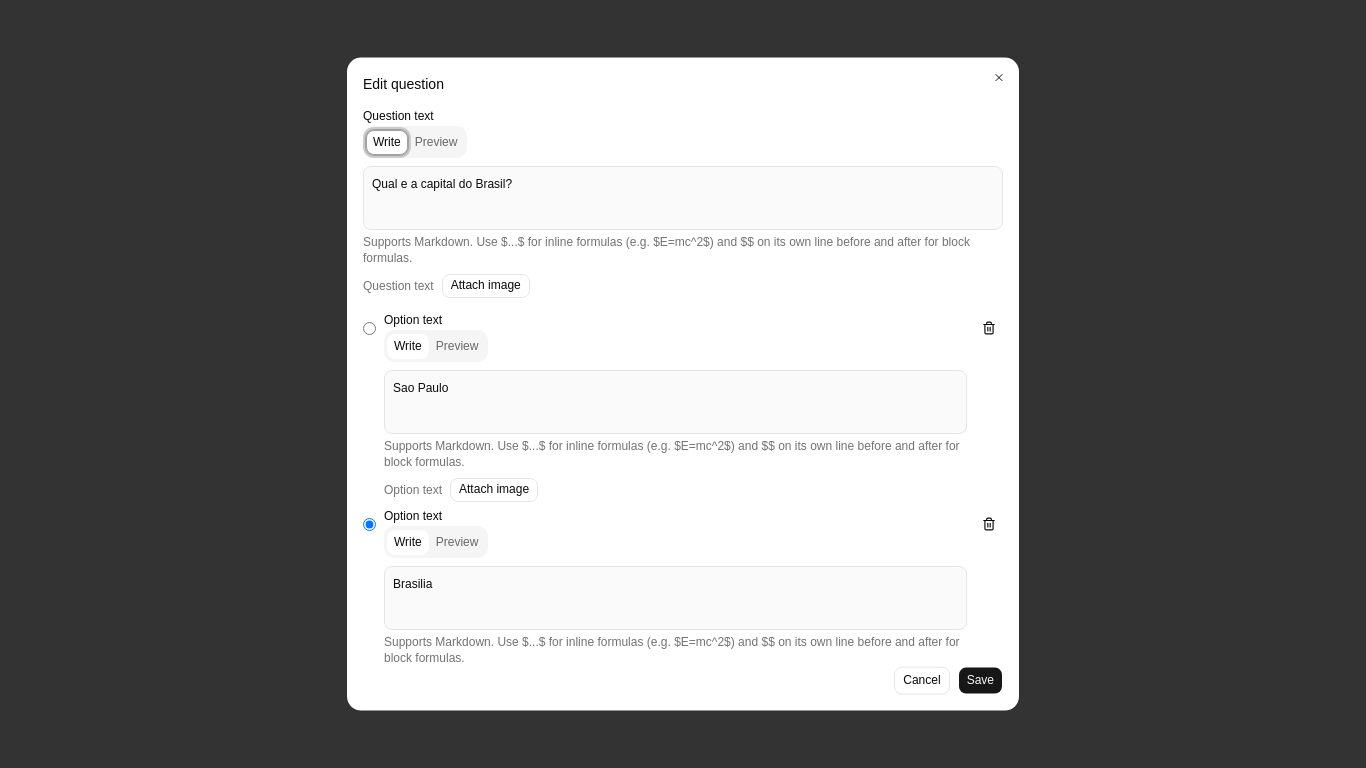
Test case: QuizQuestionFormDialog (Issue #14) › selecting a different option as correct unchecks the previously correct one
The width and height of the screenshot is (1366, 768).
Click the 1st radio button.
click(370, 328)  # box [363,322,376,335]
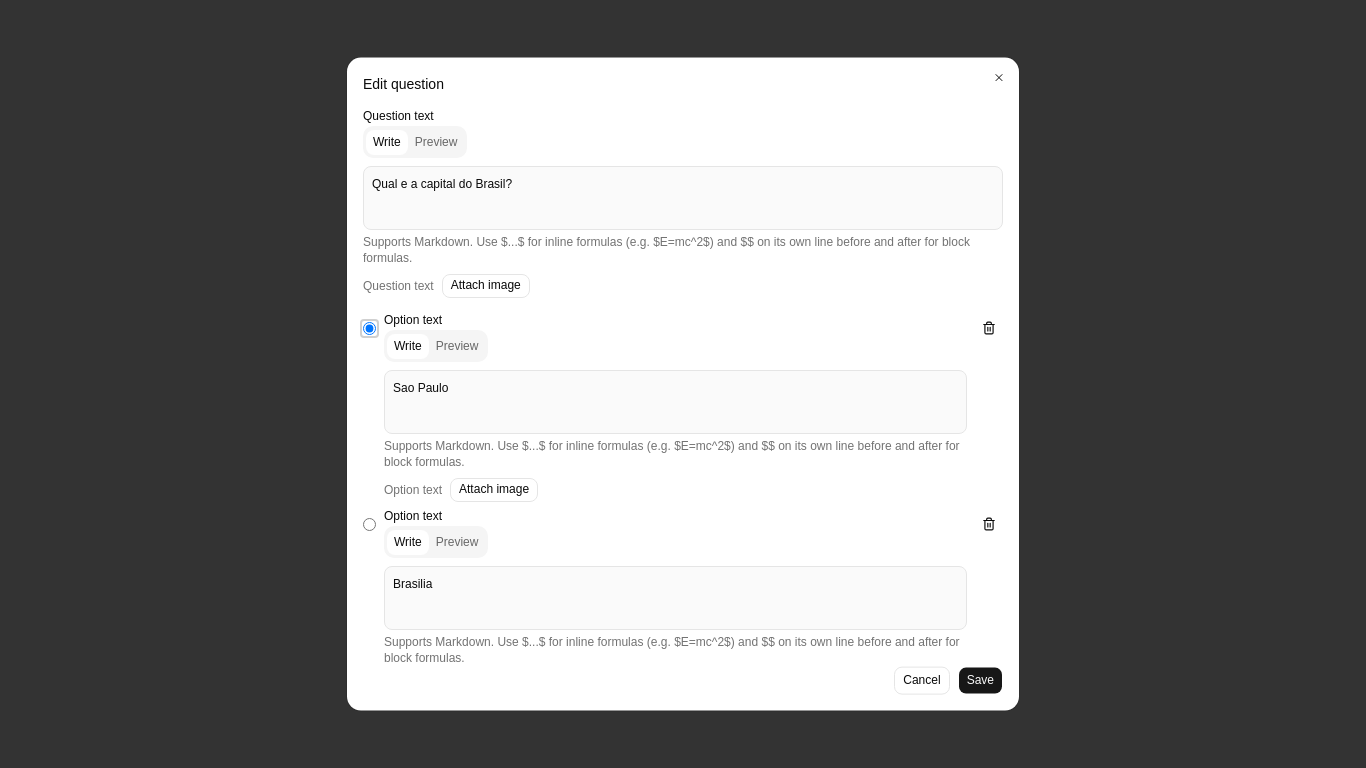
Result: the 1st radio button is checked at [363,322,376,335]
Result: the 2nd radio button is not checked at [363,518,376,531]
